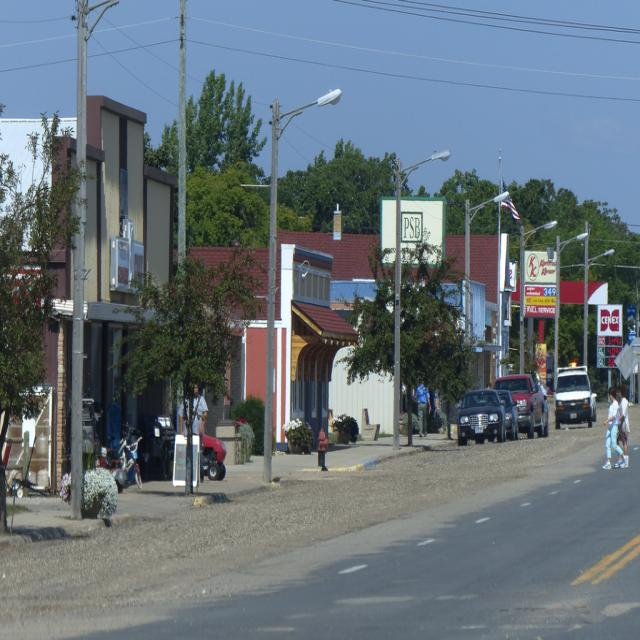car: (456, 388, 509, 442), (553, 369, 595, 427)
